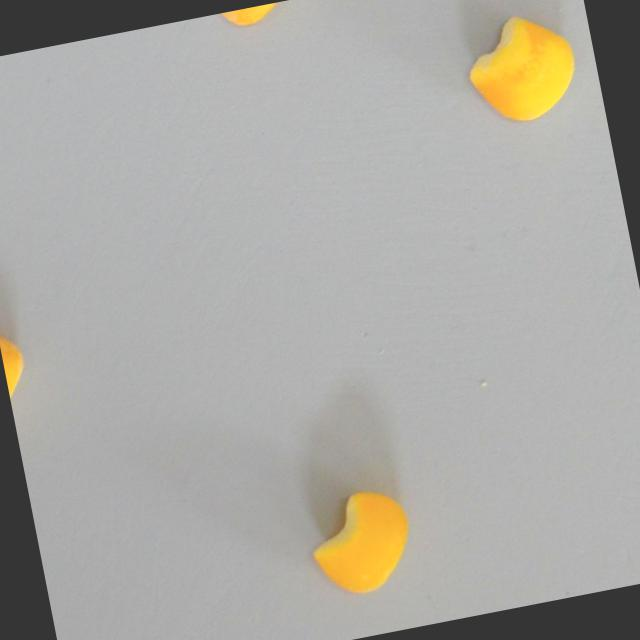no_canjicado: (458, 5, 585, 129), (302, 482, 421, 601), (210, 0, 309, 33)
